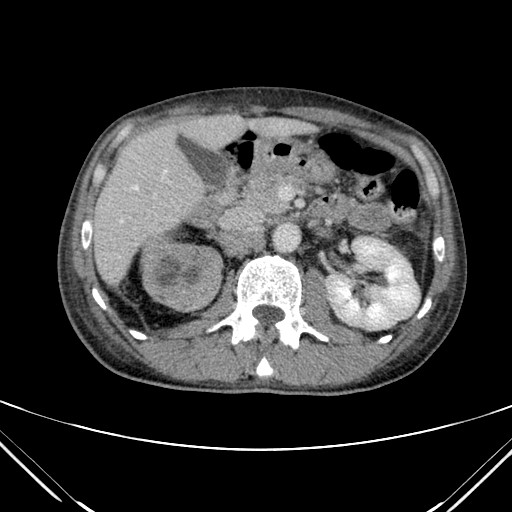vesicula: (173, 131, 232, 192)
